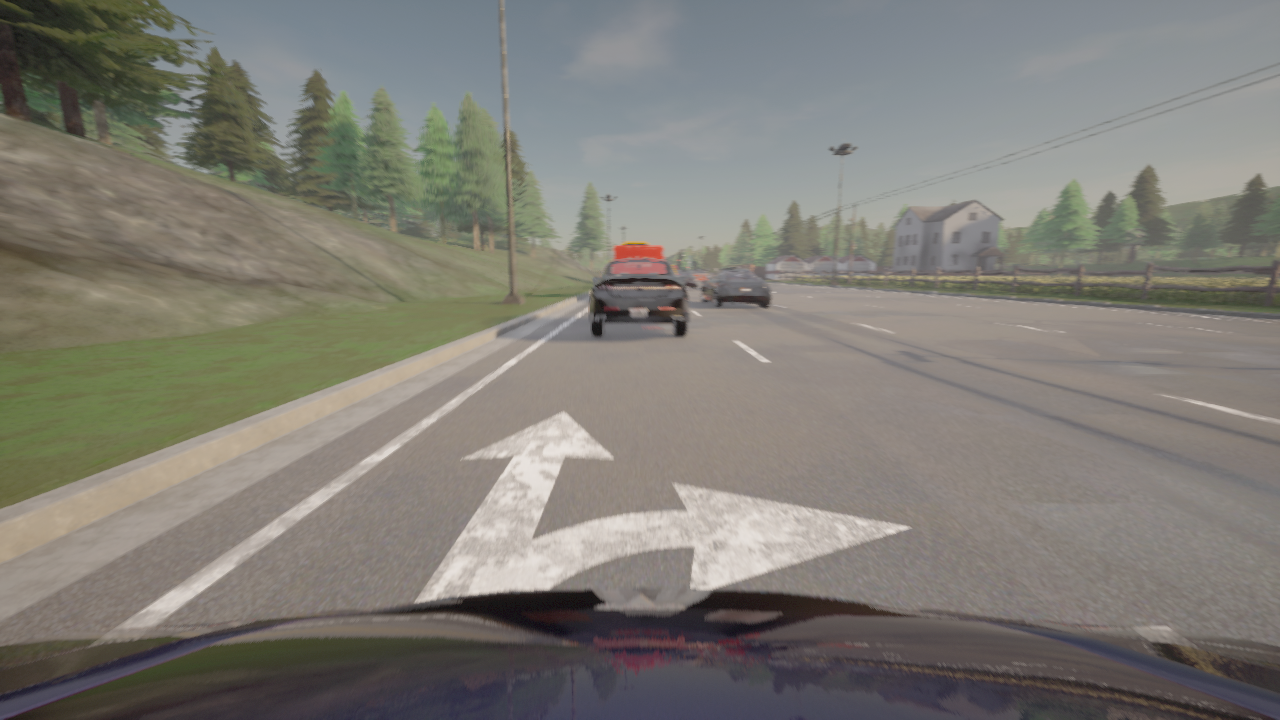cyclist: (0, 588, 1279, 719), (589, 259, 688, 336), (700, 269, 770, 307), (614, 246, 663, 259), (676, 271, 696, 289), (692, 270, 707, 280), (724, 267, 745, 268), (674, 267, 678, 270)
